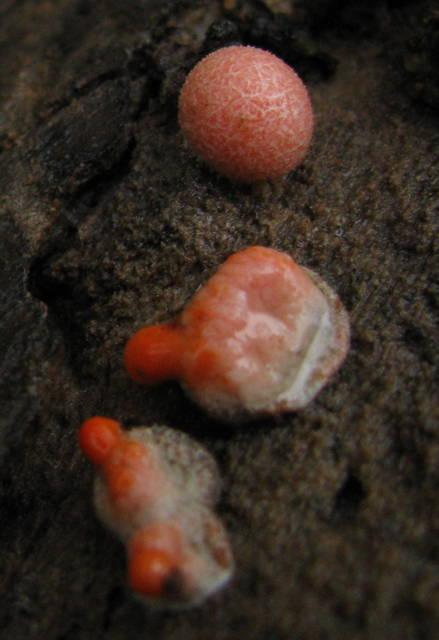Non-edible Mushroom: (121, 243, 352, 422), (76, 413, 236, 610), (175, 42, 315, 184)
